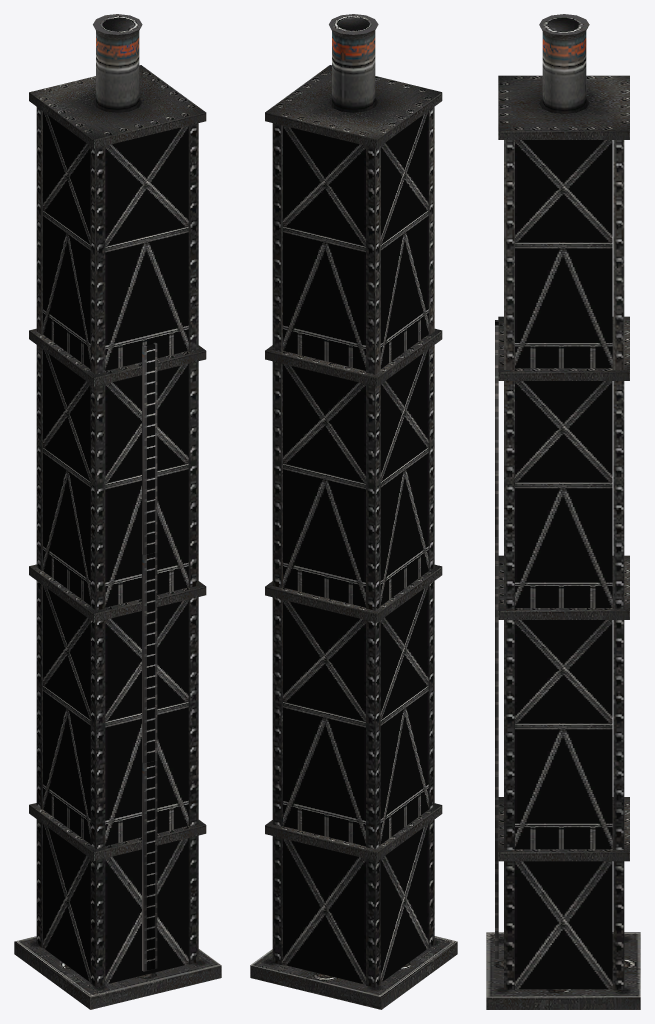
Rendered from smstack.glb.
3 renders of one model, left to right at view 1: azimuth 30°, elevation 25°; view 2: azimuth 150°, elevation 25°; view 3: azimuth 270°, elevation 25°, orthographic.
Parts seen in each view (by area): view 1: st3frame; view 2: st3frame; view 3: st3frame.
Boxes of the visible parts, box(x1,y1,x2,y2) form: st3frame: box(14, 14, 221, 1009); st3frame: box(250, 14, 457, 1009); st3frame: box(486, 14, 640, 1009).
Size of the model in its own units: 5.59 by 38.36 by 5.62.
1 material, 1 textured.
